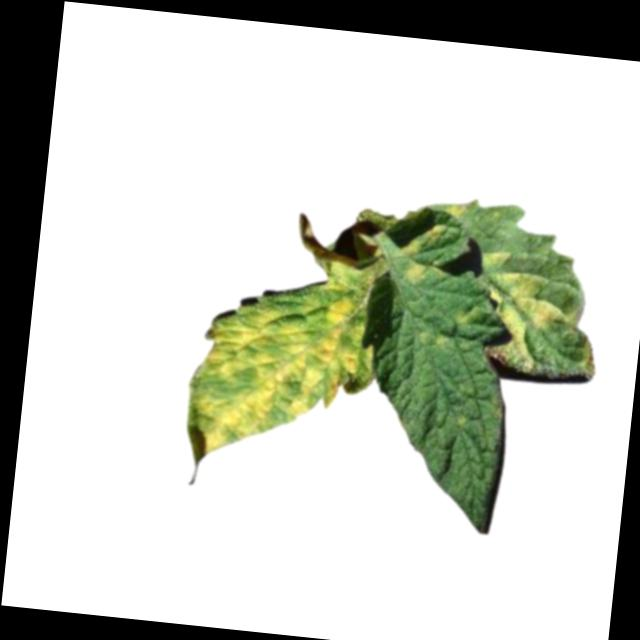Leaf_Mold: (179, 247, 380, 482), (468, 247, 567, 372), (400, 259, 450, 284), (395, 239, 424, 261), (444, 200, 470, 224), (425, 224, 449, 245)
